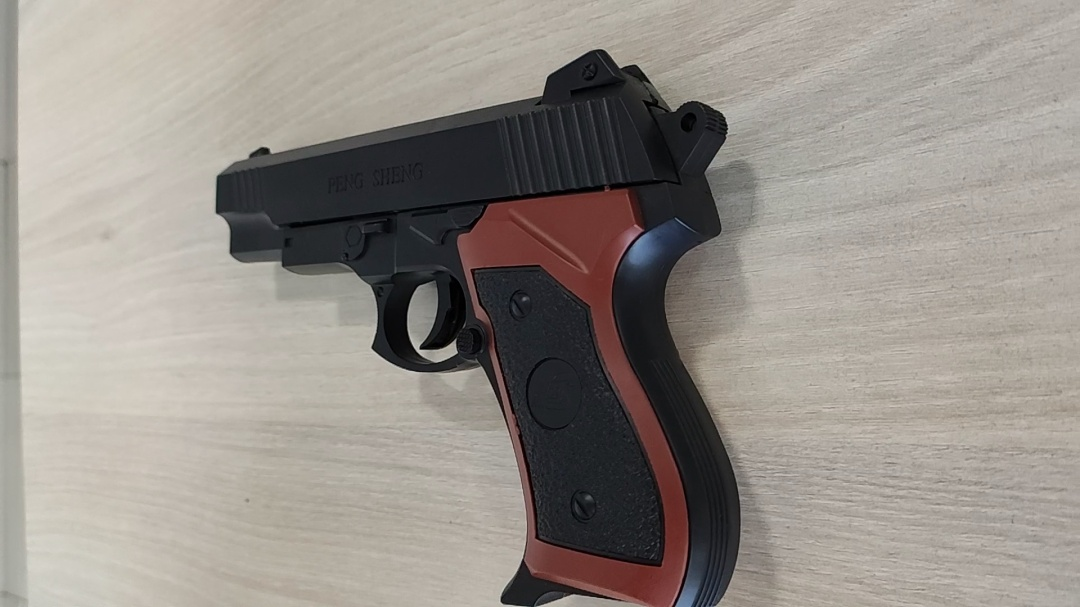gunw: (212, 48, 740, 607)
